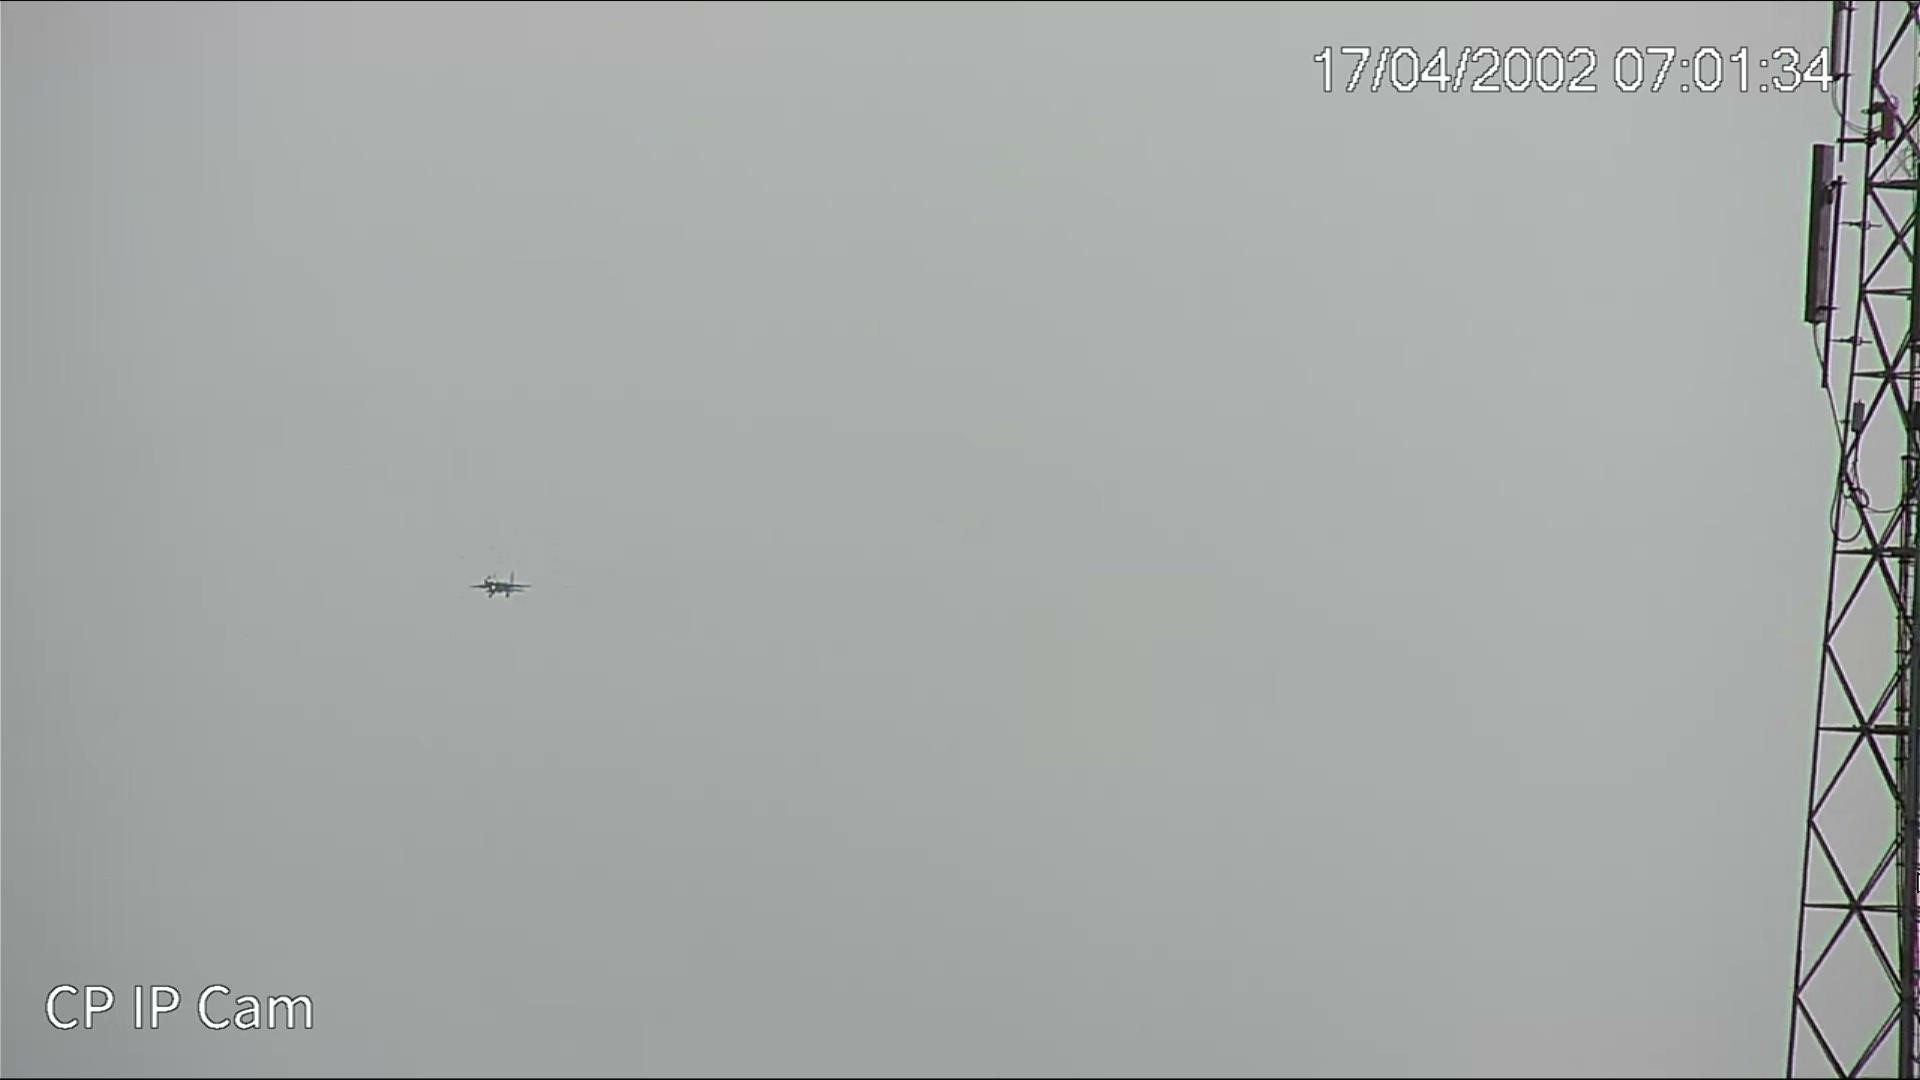SU_30: (471, 570, 531, 601)
